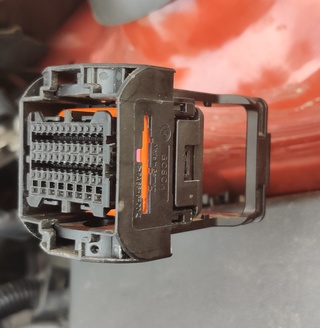connector: (18, 64, 204, 265)
